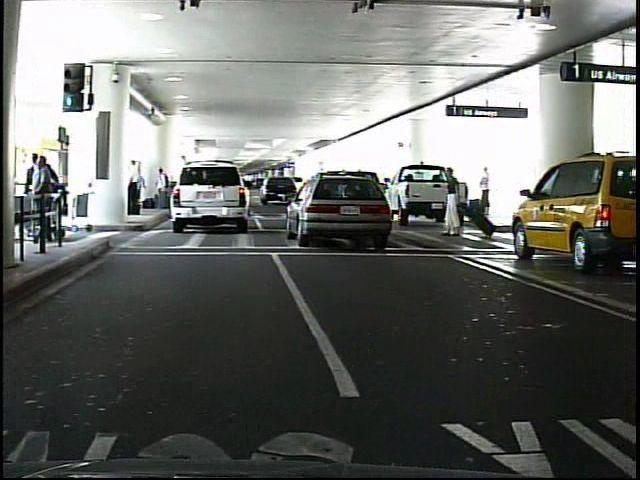person: (445, 165, 467, 239), (132, 157, 146, 218), (482, 165, 497, 218), (160, 166, 174, 211)
